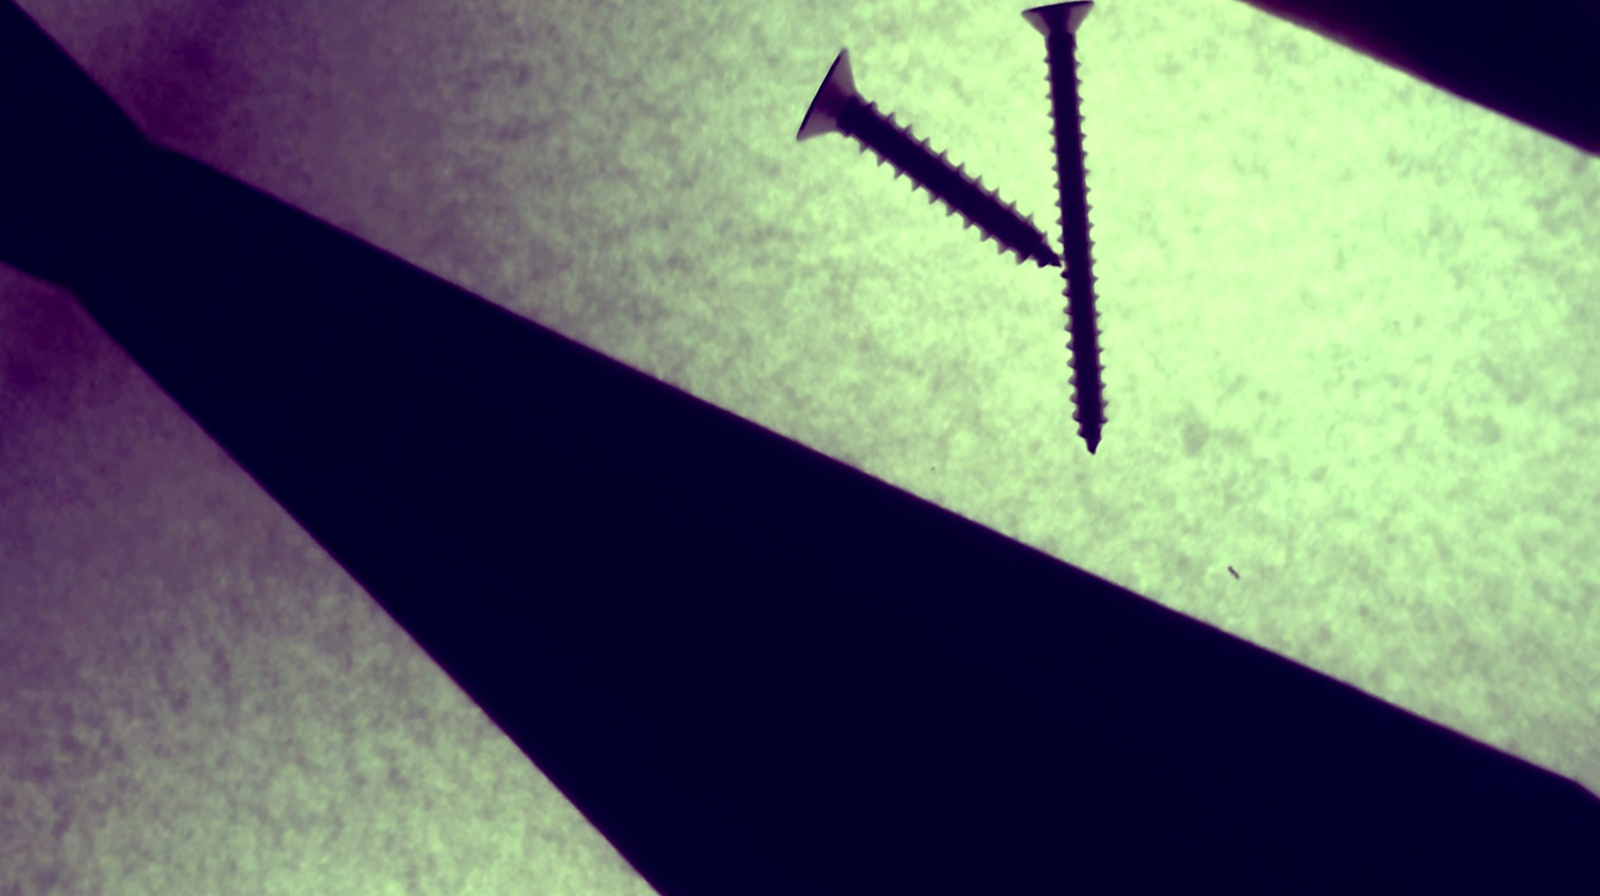S001: (773, 33, 1097, 319)
S002: (864, 0, 1285, 467)
